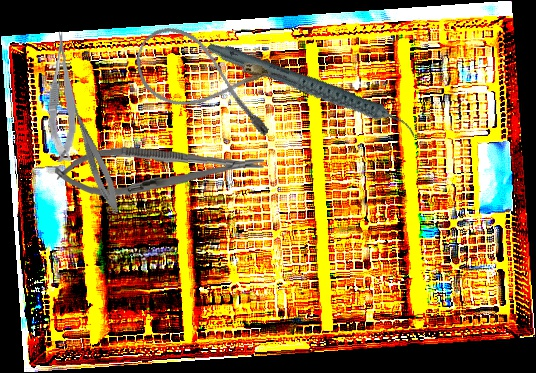Cannula: (124, 18, 292, 142)
Handpiece: (205, 3, 419, 177)
Micro Scissor: (59, 92, 126, 217), (43, 30, 84, 163)
Needle Holder: (53, 138, 266, 202)
